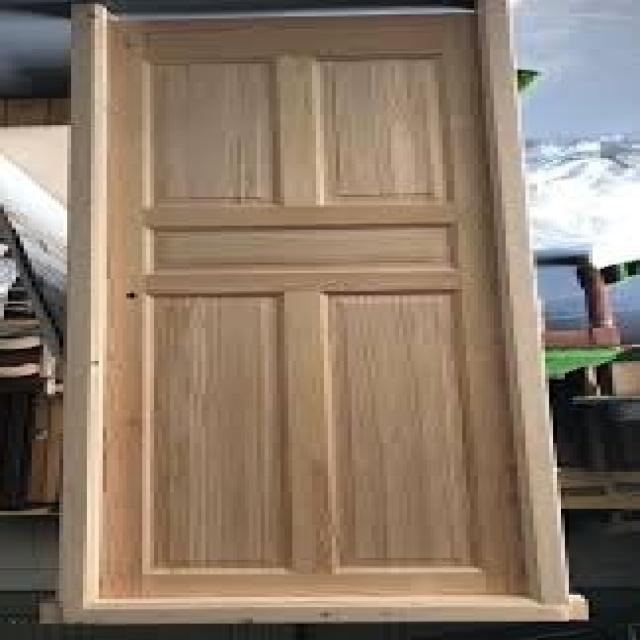door: (59, 1, 577, 625)
